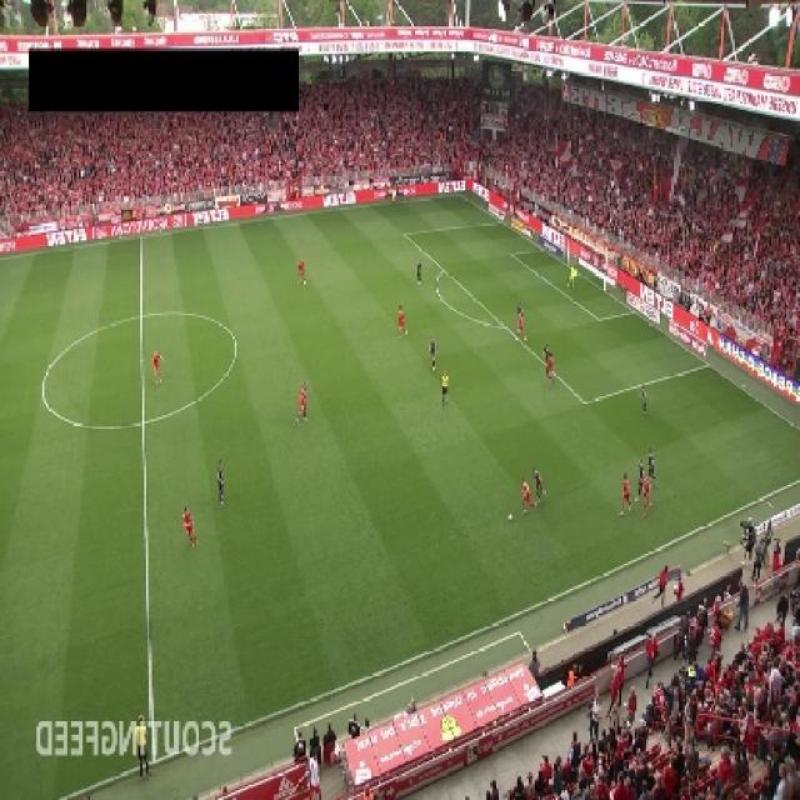1: (449, 187, 470, 203)
10: (436, 258, 454, 277)
11: (496, 316, 515, 338)
12: (575, 390, 596, 415)
13: (128, 227, 152, 251)
14: (128, 301, 152, 327)
15: (128, 404, 158, 436)
16: (148, 752, 162, 770)
2: (492, 214, 508, 230)
3: (534, 243, 550, 256)
4: (626, 304, 640, 320)
5: (699, 353, 719, 377)
7: (502, 244, 520, 262)
8: (590, 306, 610, 330)
9: (396, 224, 414, 243)
c: (224, 334, 248, 362), (35, 380, 54, 414)
